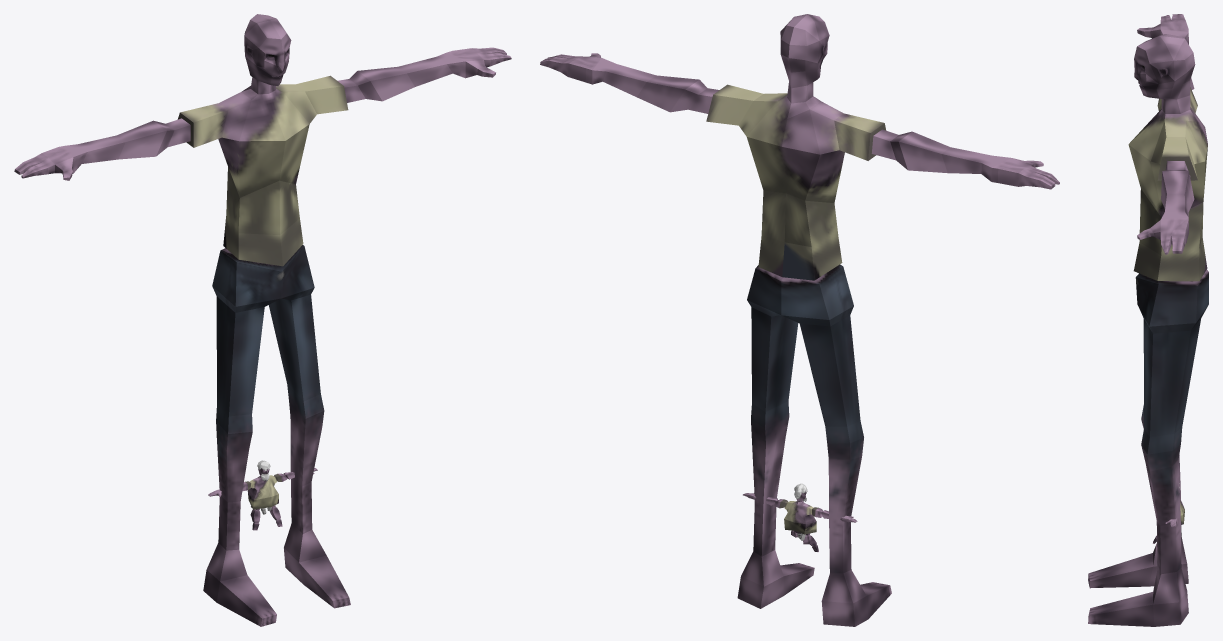
Rendered from aondevocevem.fbx.
The picture shows the model from 3 angles, left to right: view 1: azimuth 30°, elevation 25°; view 2: azimuth 150°, elevation 25°; view 3: azimuth 270°, elevation 25°; orthographic projection. The views are drawn at different scales.
Visible parts, largest first — view 1: Cube, Cube.002; view 2: Cube, Cube.002; view 3: Cube.
Boxes of the visible parts, x1,y1,x2,y2 form: Cube: (14,14,511,626); Cube.002: (208,460,317,530); Cube: (540,14,1059,626); Cube.002: (743,483,857,551); Cube: (1088,14,1208,626).
Size of the model in its own units: 1002 by 1116 by 216.
